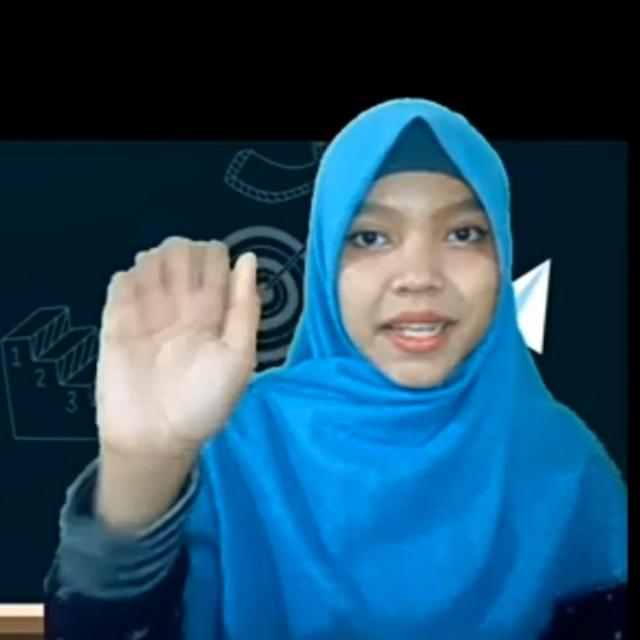B: (92, 234, 264, 456)
